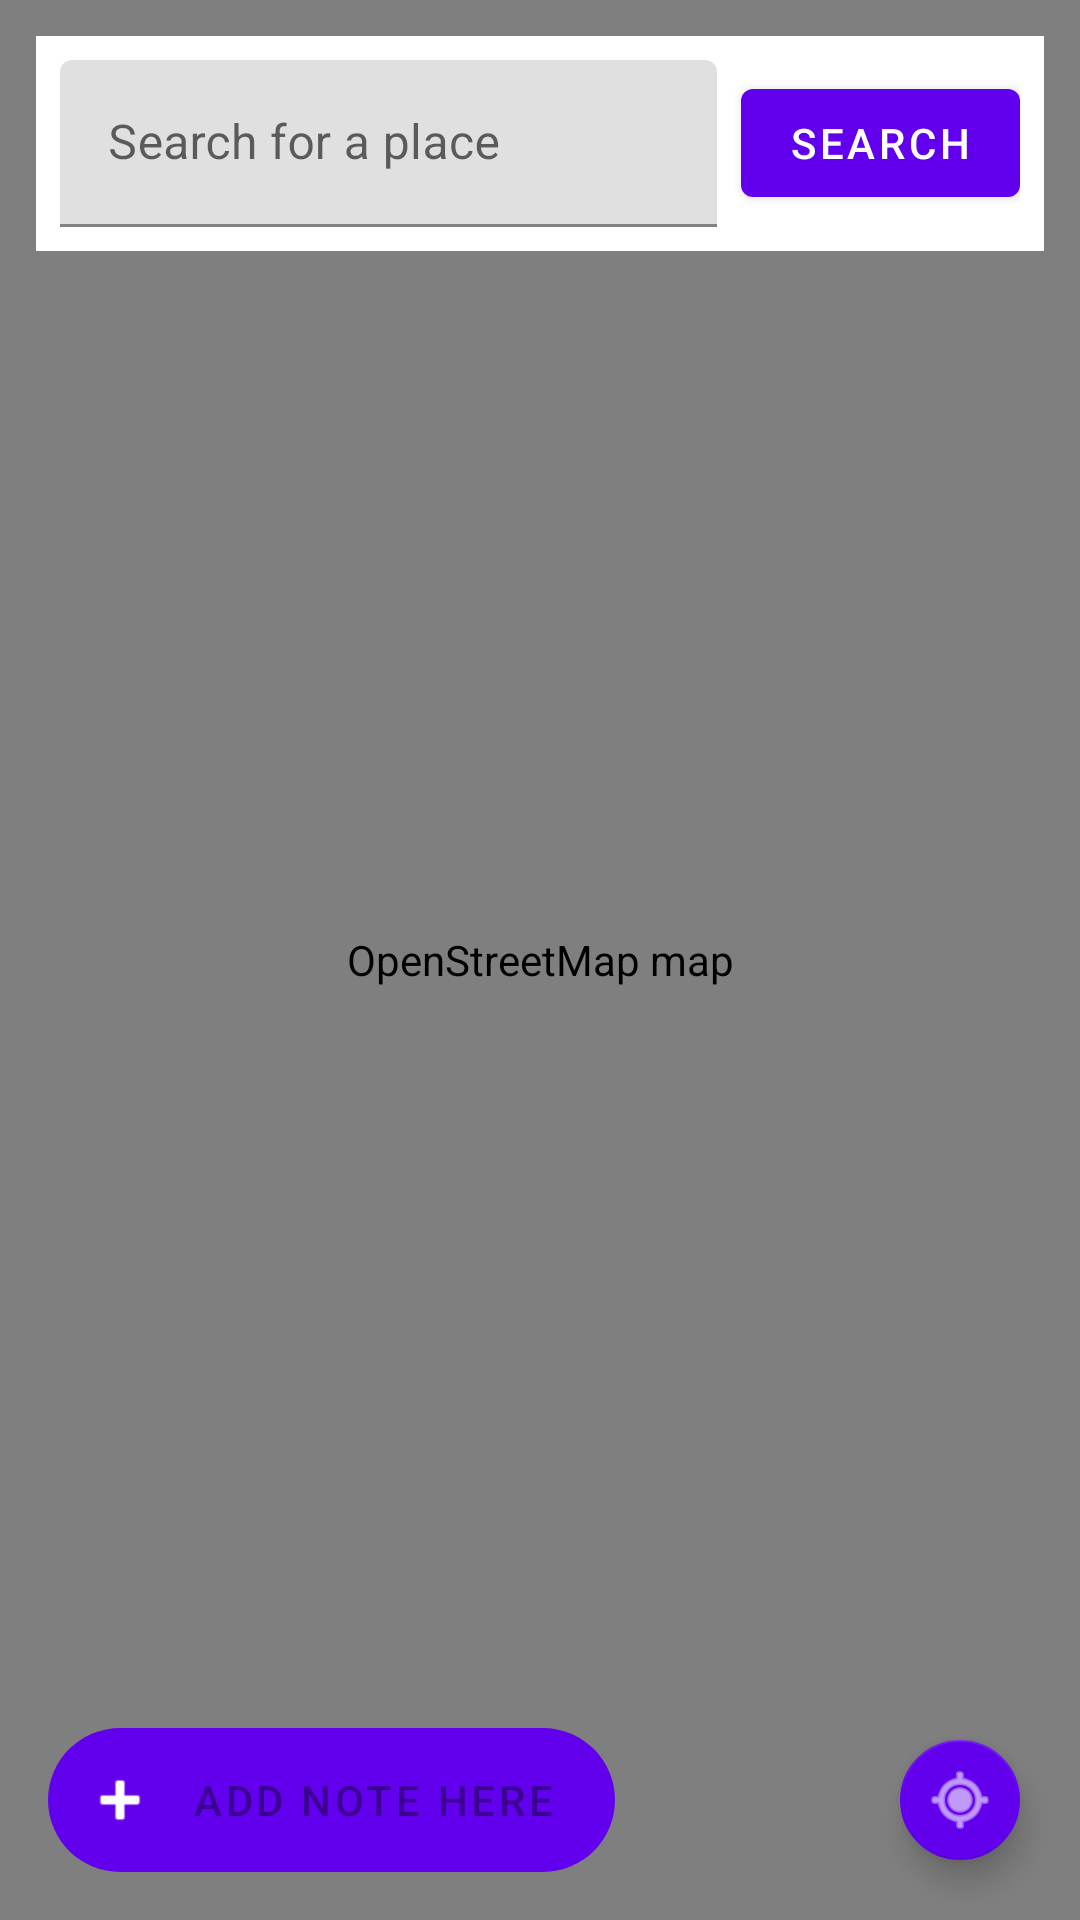

Icons on this 1080×1920 Android screen, each with its box as (x1, y1, x2, y2):
My location: (900, 1740, 1020, 1860)
